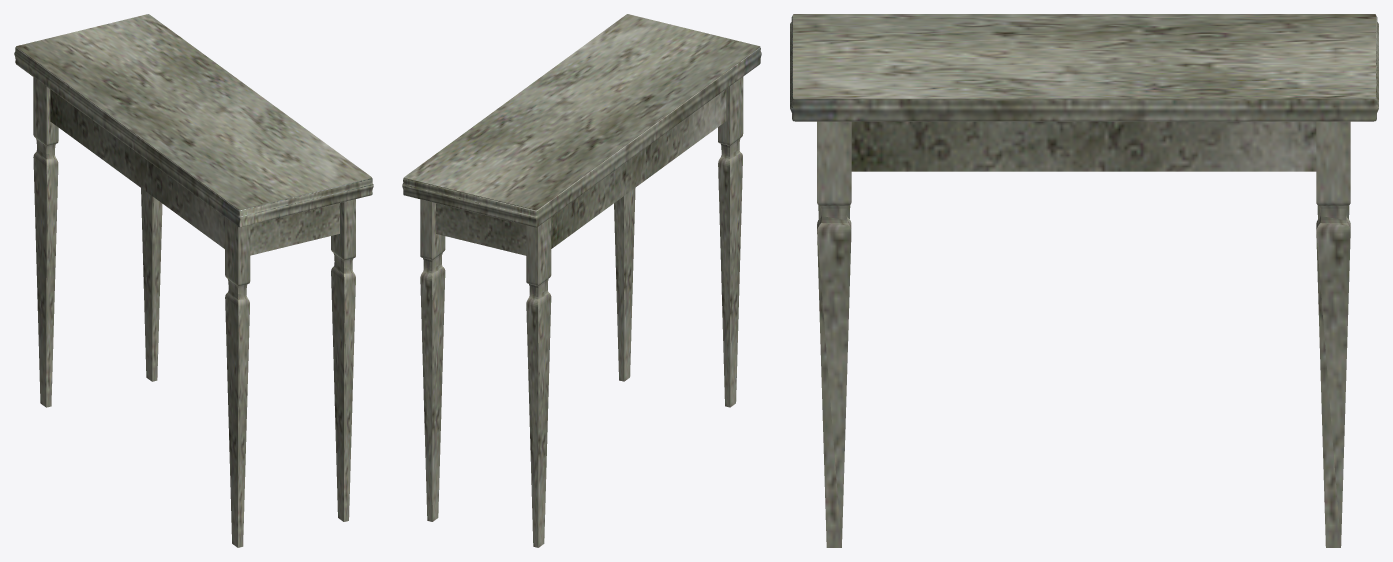
Rendered from mesa.obj.
3 views of the same model, side by side, from view 1: azimuth 30°, elevation 25°; view 2: azimuth 150°, elevation 25°; view 3: azimuth 270°, elevation 25° (orthographic). The views are drawn at different scales.
Visible parts, largest first — view 1: tbl022:Line05; view 2: tbl022:Line05; view 3: tbl022:Line05.
Boxes of the visible parts, box(x1,y1,x2,y2) form: tbl022:Line05: box(14, 14, 373, 547); tbl022:Line05: box(402, 14, 761, 547); tbl022:Line05: box(790, 14, 1378, 547).
Size of the model in its own units: 0.7112 by 1.76 by 2.06.
1 material, 1 textured.
